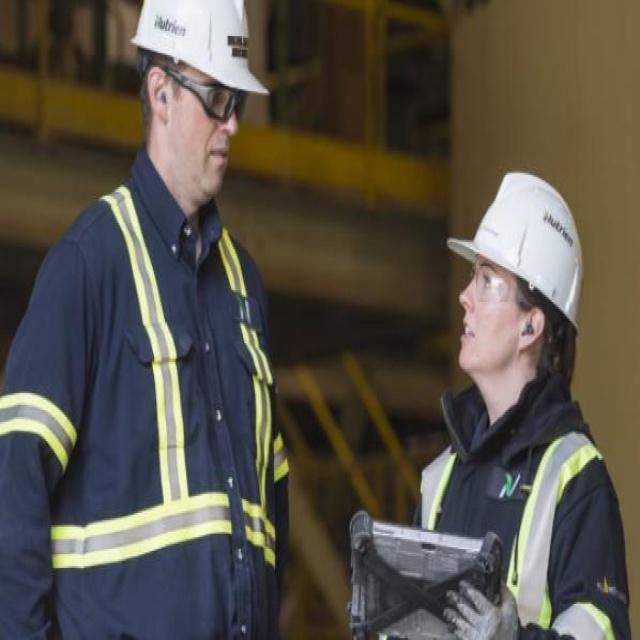helmet: (130, 1, 271, 272), (447, 222, 581, 506)
vest: (1, 251, 289, 640), (412, 583, 640, 640)
